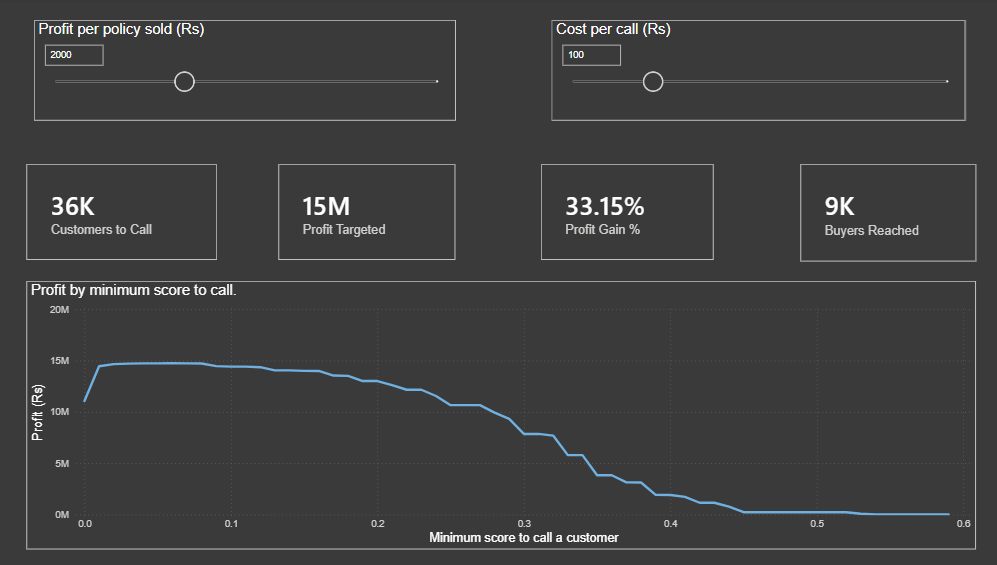

The page's visual inventory and layout, read from the dashboard file:
{"tool":"powerbi","page":{"name":"who to call","canvas":[1280,720],"ordinal":0},"visuals":[{"type":"slicer","title":"Profit per policy sold (Rs)","fields":{"Values":["Profit per sales.Profit per sales"]},"box":[52.9,30.2,531,126.6],"z":0},{"type":"slicer","title":"Cost per call (Rs)","fields":{"Values":["cost per call.cost per call"]},"box":[704.9,30.2,521.6,126.6],"z":1000},{"type":"lineChart","title":"Profit by minimum score to call.","fields":{"Category":["Cutoff.Value"],"Y":["customers.Profit at Cutoff"]},"box":[43.5,359.1,1196.2,338.3],"z":2000},{"type":"cardVisual","fields":{"Data":["customers.Customers to Call"]},"box":[43.5,211.7,240,120.9],"z":3000},{"type":"cardVisual","fields":{"Data":["customers.Buyers Reached"]},"box":[1018.6,211.7,221.1,122.8],"z":4000},{"type":"cardVisual","fields":{"Data":["customers.Profit Targeted"]},"box":[360.9,211.7,223,120.9],"z":5000},{"type":"cardVisual","fields":{"Data":["customers.Profit Gain %"]},"box":[691.7,211.7,217.3,120.9],"z":6000}]}

Visuals, with their boxes in screenshot pixels (x1, y1, x2, y2), scaled from the page's 1280x720 canvas onto the 997x565 screenshot:
"Profit per policy sold (Rs)" slicer: x1=41 y1=24 x2=455 y2=123
"Cost per call (Rs)" slicer: x1=549 y1=24 x2=955 y2=123
"Profit by minimum score to call." lineChart: x1=34 y1=282 x2=966 y2=547
cardVisual - customers.Customers to Call: x1=34 y1=166 x2=221 y2=261
cardVisual - customers.Buyers Reached: x1=793 y1=166 x2=966 y2=262
cardVisual - customers.Profit Targeted: x1=281 y1=166 x2=455 y2=261
cardVisual - customers.Profit Gain %: x1=539 y1=166 x2=708 y2=261
